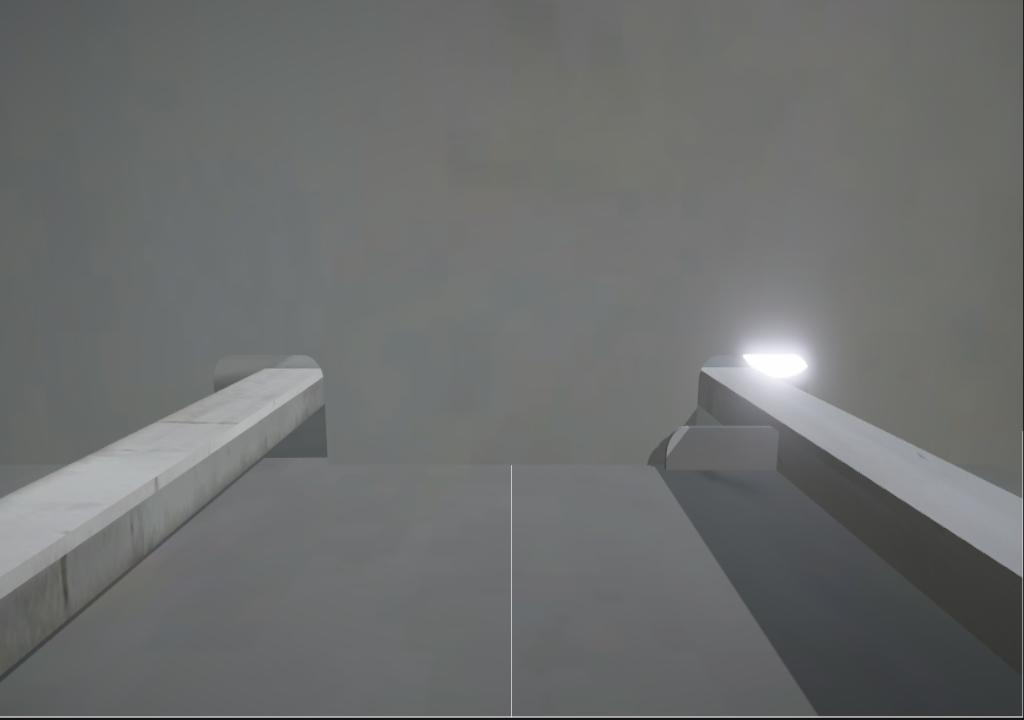fillet_yong_jeop_jang: (323, 458, 667, 474)
plate_CP05: (665, 426, 779, 471)
